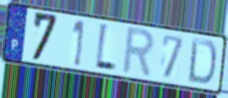1: (70, 19, 86, 68)
7: (30, 10, 59, 63), (161, 34, 186, 81)
D: (186, 36, 218, 87)
L: (93, 20, 118, 74)
R: (120, 26, 157, 81)
